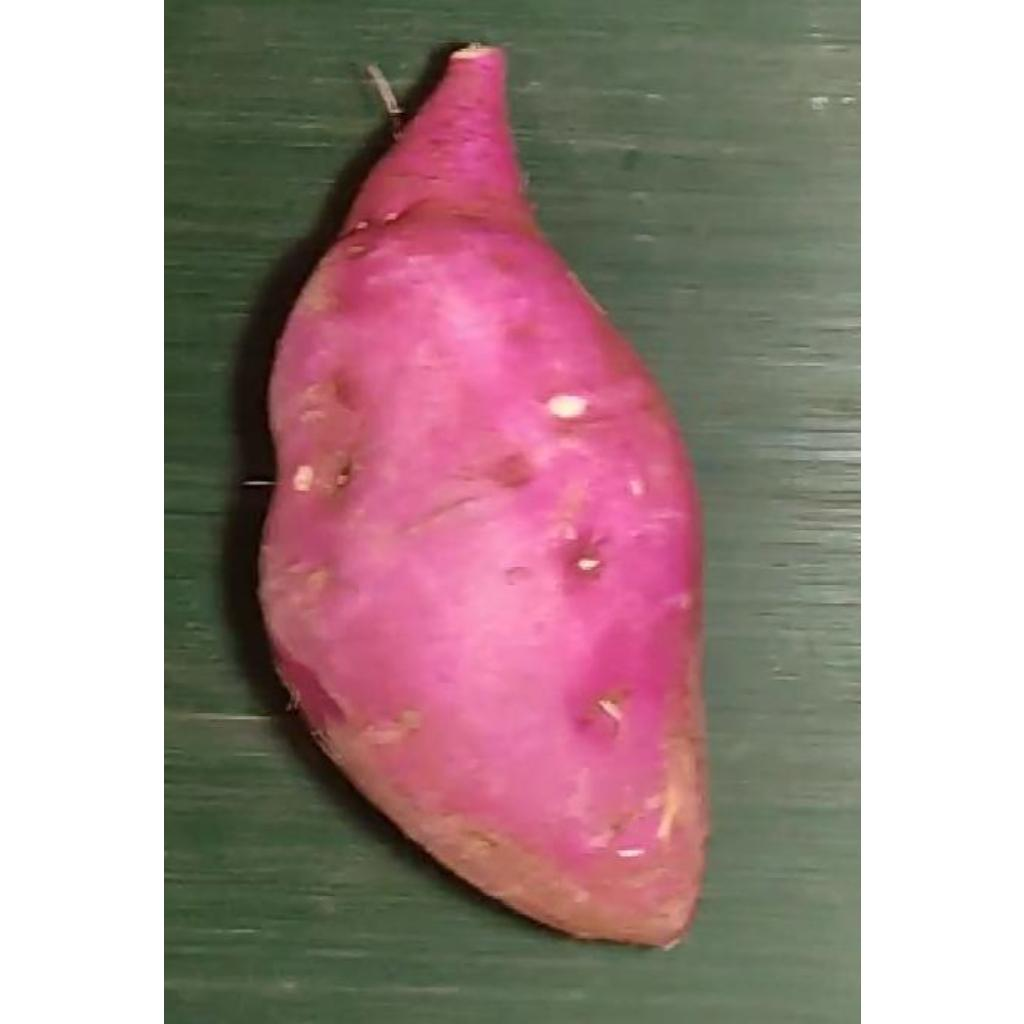Sweet Potato: (256, 46, 712, 952)
